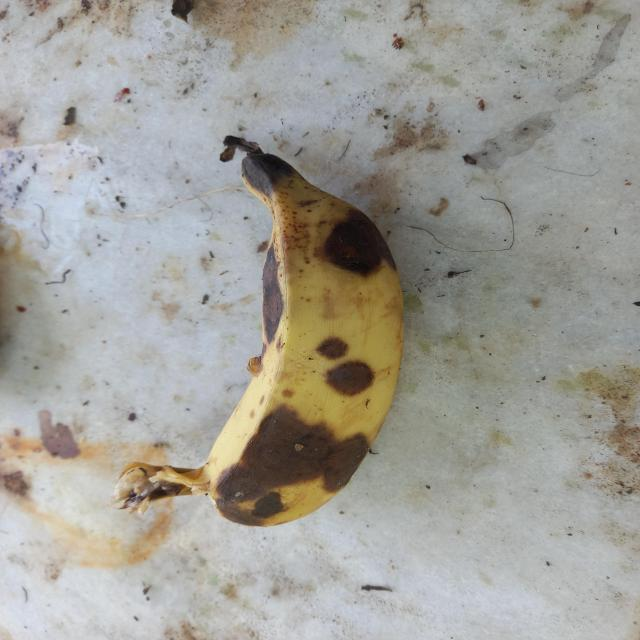Banana: (109, 134, 405, 528)
